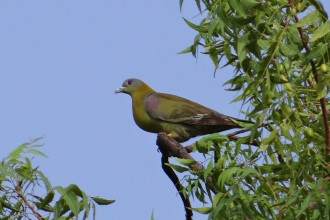pigeon: (112, 76, 247, 140)
